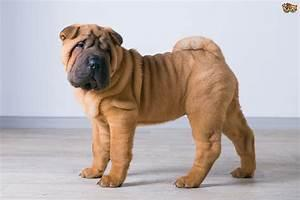dog: (58, 22, 256, 188)
